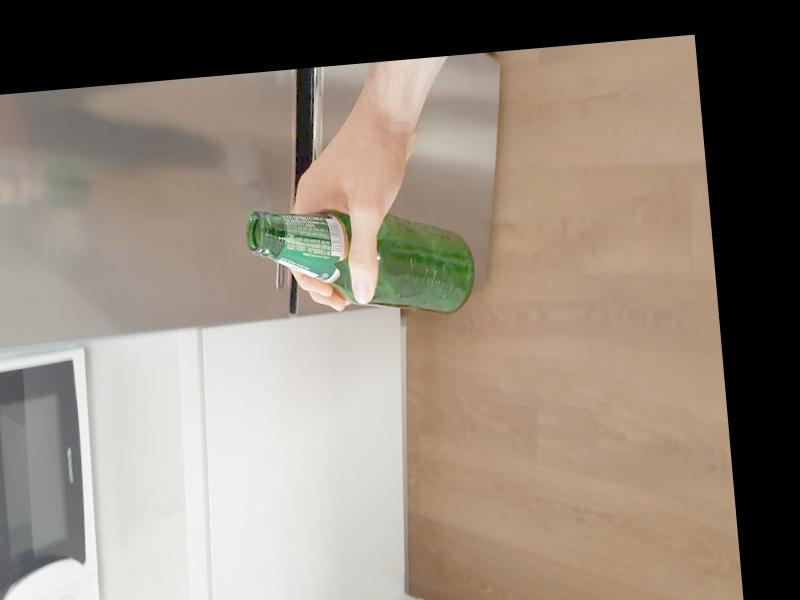Beer: (244, 193, 478, 327)
